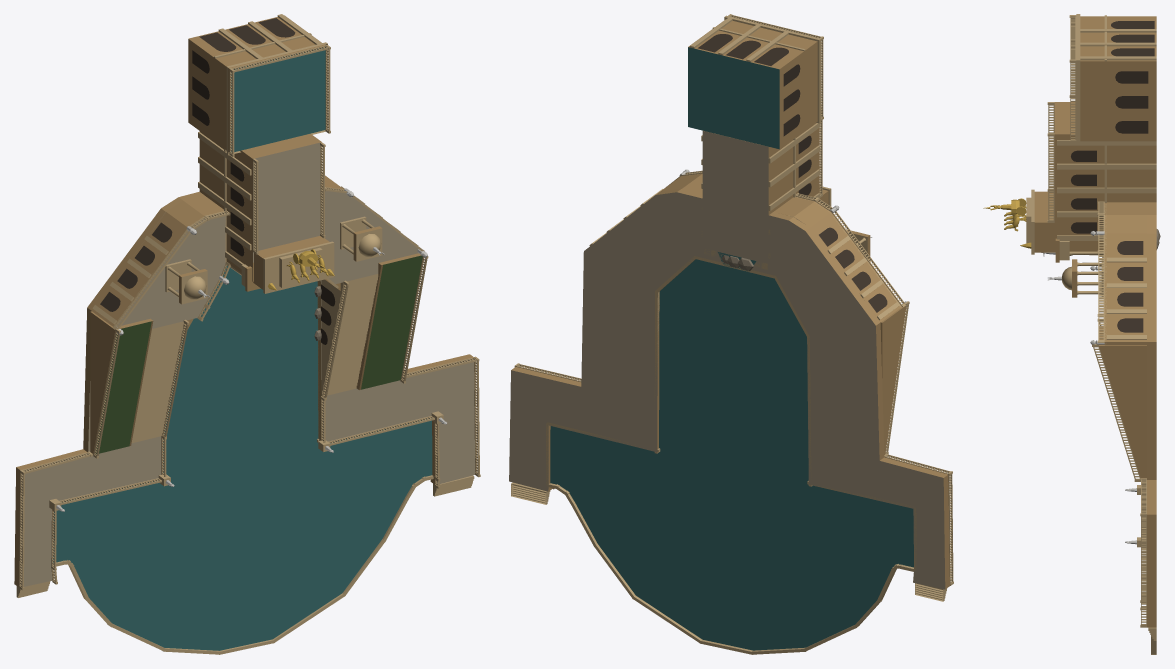
Rendered from cascada-ciutadella.glb.
3 renders of one model, left to right at view 1: azimuth 30°, elevation 25°; view 2: azimuth 150°, elevation 25°; view 3: azimuth 270°, elevation 25°, orthographic. The views are drawn at different scales.
Visible parts, largest first — view 1: cascada-ciutadella; view 2: cascada-ciutadella; view 3: cascada-ciutadella.
Boxes of the visible parts, bbox=[...] form: cascada-ciutadella: bbox=[14, 14, 480, 654]; cascada-ciutadella: bbox=[509, 14, 953, 654]; cascada-ciutadella: bbox=[983, 14, 1160, 654].
Bounding box in the file's own units: 80.76 × 105 × 28.49.
